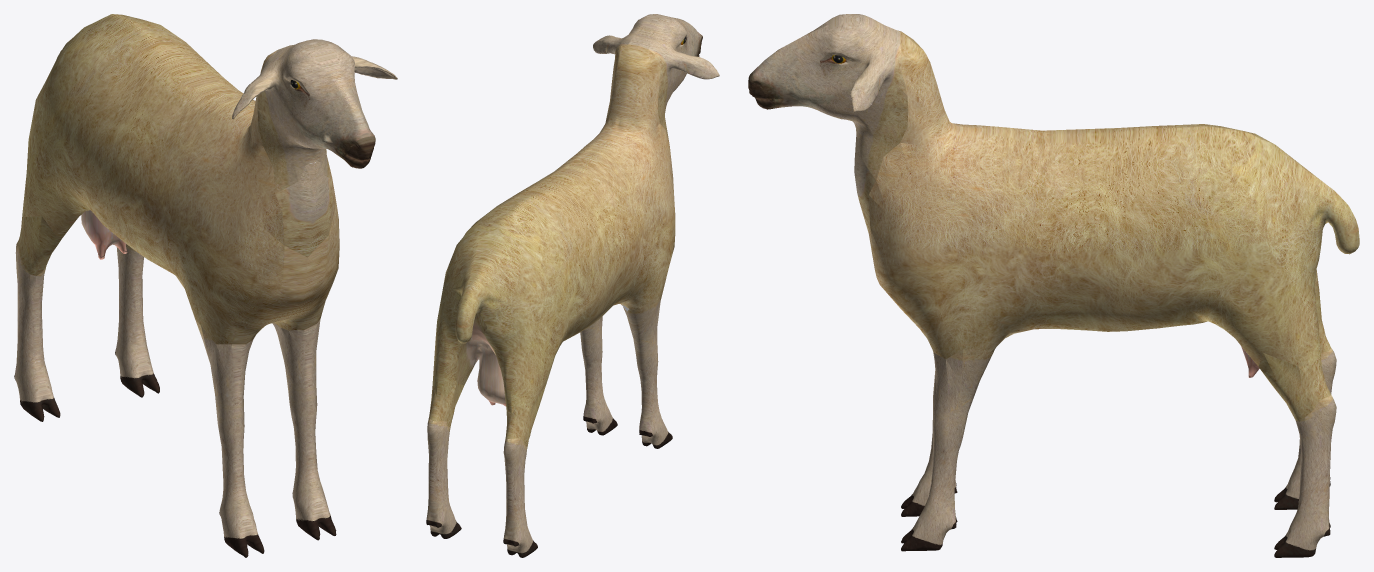
File: sheep.glb
The picture shows the model from 3 angles, left to right: view 1: azimuth 30°, elevation 25°; view 2: azimuth 150°, elevation 25°; view 3: azimuth 270°, elevation 25°; orthographic projection. The views are drawn at different scales.
Parts seen in each view (by area): view 1: 3DSMeshMatrix; view 2: 3DSMeshMatrix; view 3: 3DSMeshMatrix.
Boxes of the visible parts, x1,y1,x2,y2 form: 3DSMeshMatrix: (14,14,397,557); 3DSMeshMatrix: (426,14,719,557); 3DSMeshMatrix: (748,14,1359,557).
Size of the model in its own units: 362 by 1090 by 1183.
6 materials, 6 textured.
